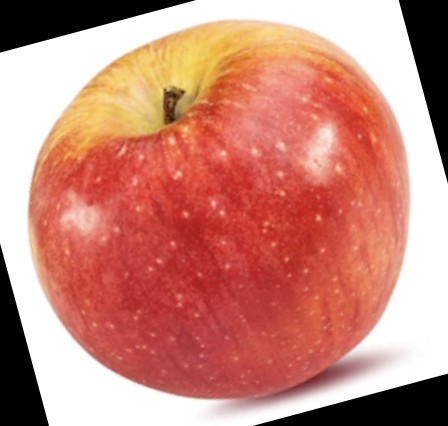fresh_apple: (26, 20, 407, 399)
